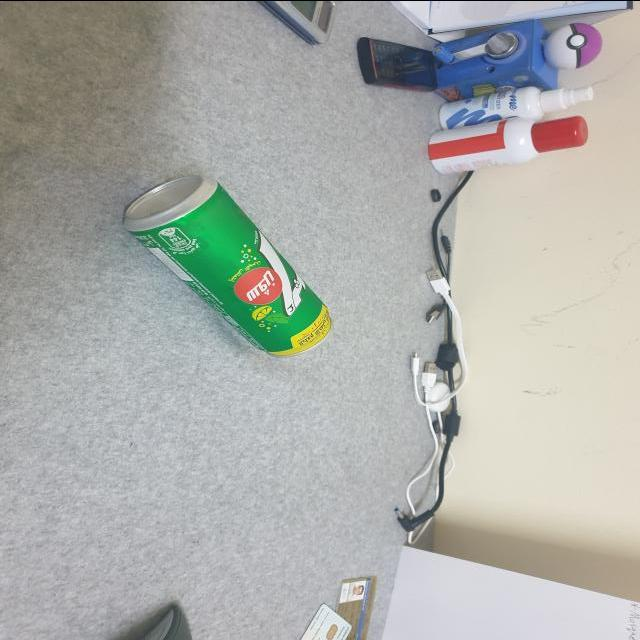can: (120, 174, 334, 358)
